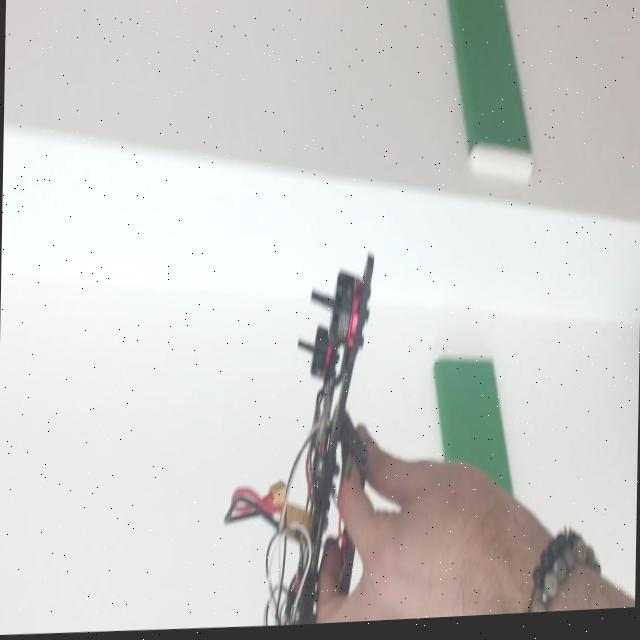drone: (245, 235, 388, 630)
